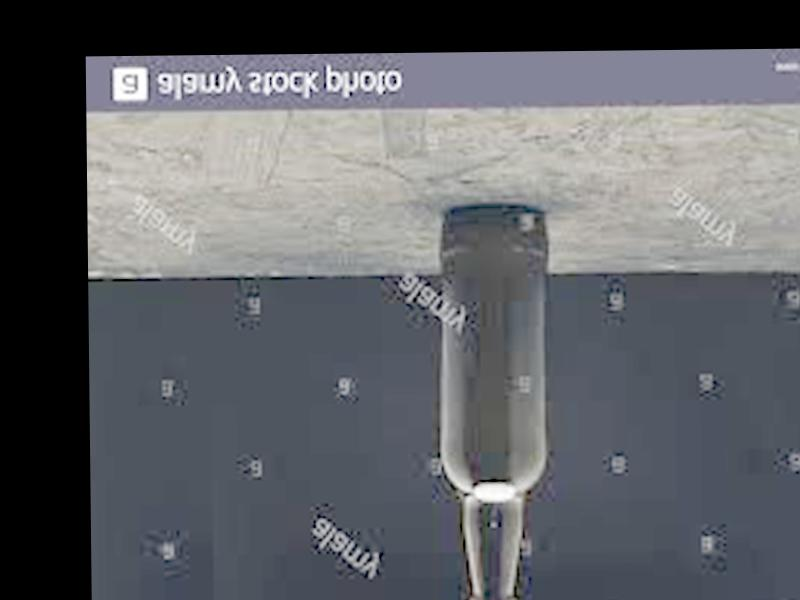Beer: (448, 207, 550, 600)
